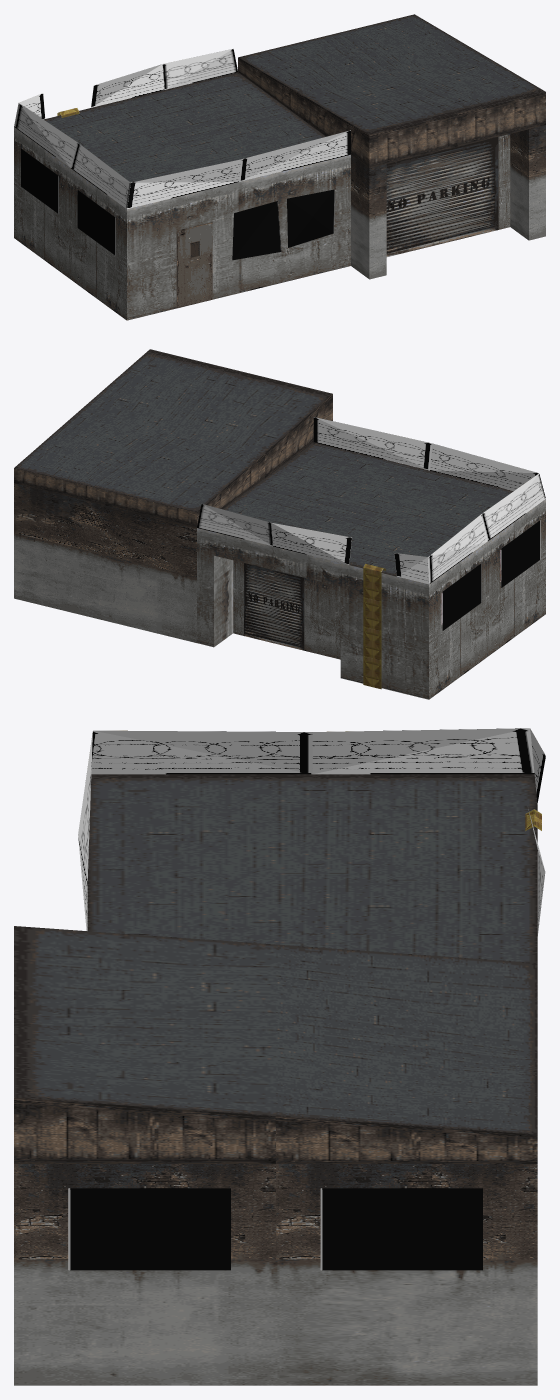
The model's file is oldShelter_Asset_by_WardsterONsketchfab.fbx.
The picture shows the model from 3 angles, top to bottom: view 1: azimuth 30°, elevation 25°; view 2: azimuth 150°, elevation 25°; view 3: azimuth 270°, elevation 25°; orthographic projection. The views are drawn at different scales.
Parts seen in each view (by area): view 1: old_shelter, wires, window grilles.002, window grilles.001, window grilles.005, window grilles.004; view 2: old_shelter, wires, ext_ladder, window grilles.005, window grilles.004; view 3: old_shelter, wires, window grilles.003, window grilles.
Part boxes in pixels (x1,y1,x2,y2): old_shelter: [14, 14, 545, 320]; wires: [14, 48, 350, 209]; window grilles.002: [232, 201, 281, 260]; window grilles.001: [287, 189, 334, 247]; window grilles.005: [77, 190, 115, 255]; window grilles.004: [21, 148, 58, 213]; old_shelter: [14, 349, 545, 699]; wires: [197, 417, 545, 584]; ext_ladder: [363, 563, 385, 689]; window grilles.005: [501, 520, 540, 587]; window grilles.004: [442, 563, 481, 630]; old_shelter: [14, 774, 537, 1385]; wires: [78, 728, 545, 935]; window grilles.003: [68, 1188, 230, 1270]; window grilles: [320, 1188, 482, 1270].
Size of the model in its own units: 1234 by 422 by 706.
